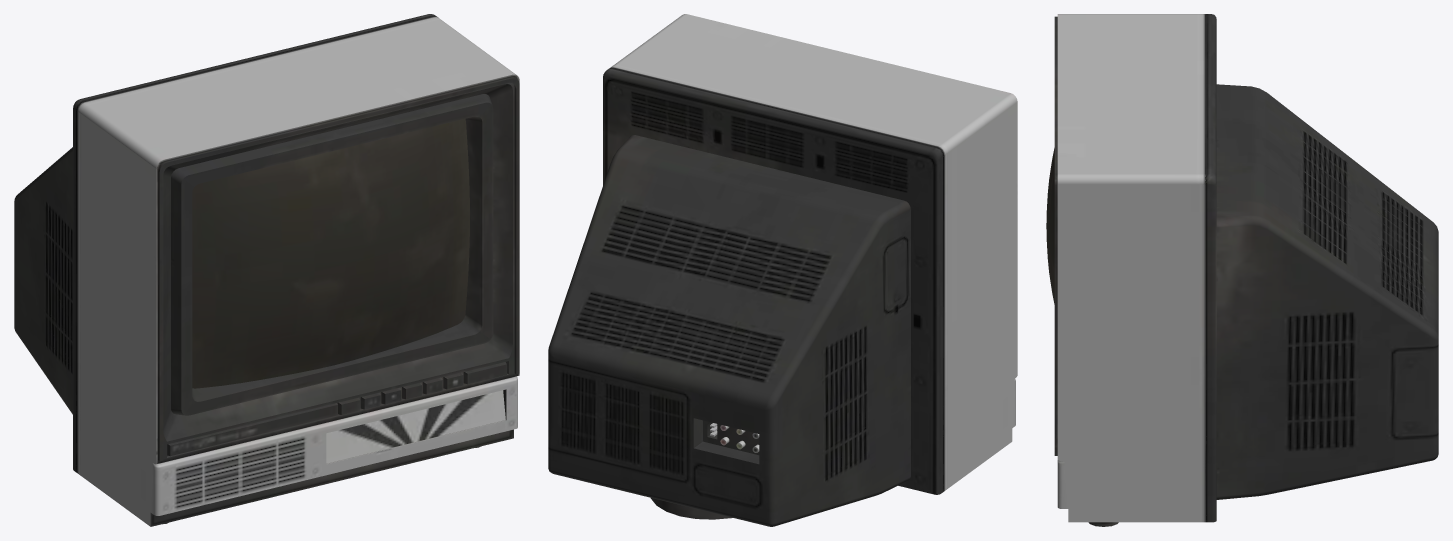
The model's file is ph-television-02.glb.
The picture shows the model from 3 angles, left to right: view 1: azimuth 30°, elevation 25°; view 2: azimuth 150°, elevation 25°; view 3: azimuth 270°, elevation 25°; orthographic projection. The views are drawn at different scales.
Visible parts, largest first — view 1: television_02; view 2: television_02; view 3: television_02.
Part boxes in pixels (x1,y1,x2,y2): television_02: (14, 14, 519, 526); television_02: (548, 14, 1017, 526); television_02: (1046, 14, 1438, 526).
Bounding box in the file's own units: 1 × 1 × 1.
Materials: 1 (1 with a texture image).
